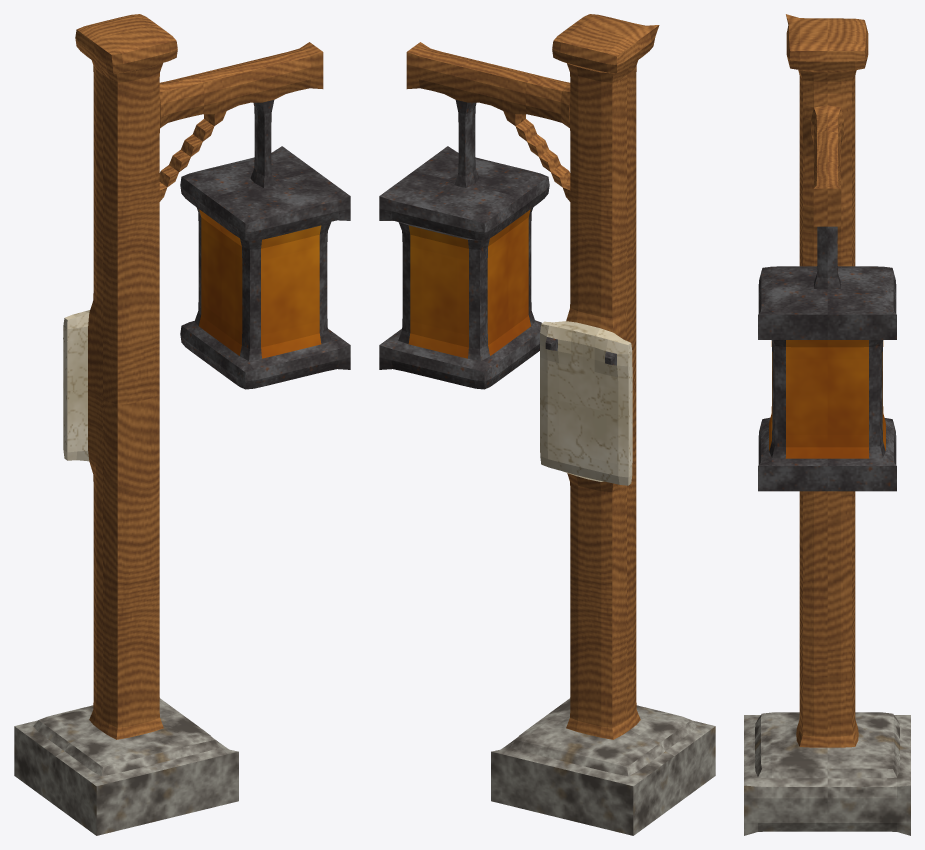
Rendered from prop_spot_post.glb.
3 views of the same model, side by side, from view 1: azimuth 30°, elevation 25°; view 2: azimuth 150°, elevation 25°; view 3: azimuth 270°, elevation 25° (orthographic).
Parts seen in each view (by area): view 1: town_prop_spot_post; view 2: town_prop_spot_post; view 3: town_prop_spot_post.
Boxes of the visible parts, bbox=[...] form: town_prop_spot_post: bbox=[14, 14, 350, 835]; town_prop_spot_post: bbox=[379, 14, 715, 835]; town_prop_spot_post: bbox=[744, 14, 910, 835].
Size of the model in its own units: 0.6875 by 1.91 by 0.375.
Materials: 1 (1 with a texture image).
